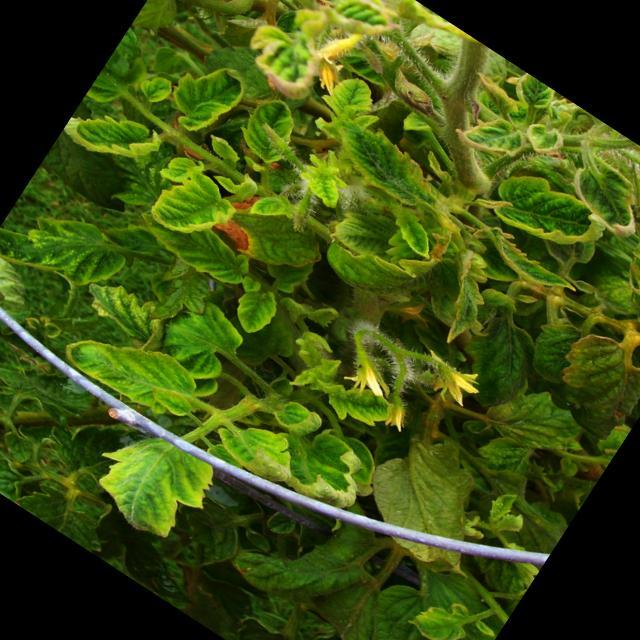Tomato yellow virus leaf: (309, 104, 476, 238), (58, 303, 218, 437), (80, 416, 224, 554), (0, 182, 131, 319), (482, 156, 612, 272), (127, 189, 263, 298), (532, 321, 640, 453), (219, 189, 338, 294), (479, 370, 594, 476), (197, 398, 311, 495), (142, 158, 246, 258), (155, 44, 253, 147), (62, 88, 167, 184), (316, 227, 421, 317), (73, 268, 168, 350), (307, 62, 391, 148), (560, 153, 640, 243), (313, 366, 402, 444), (232, 88, 310, 172), (450, 98, 531, 172), (328, 195, 400, 266), (399, 581, 482, 640), (219, 274, 288, 344)
